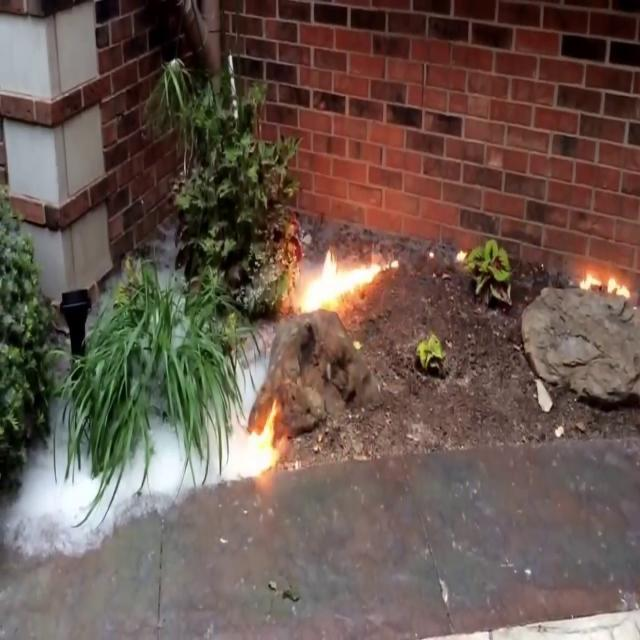Fire: (292, 238, 388, 318), (242, 396, 284, 479), (576, 256, 632, 300)
